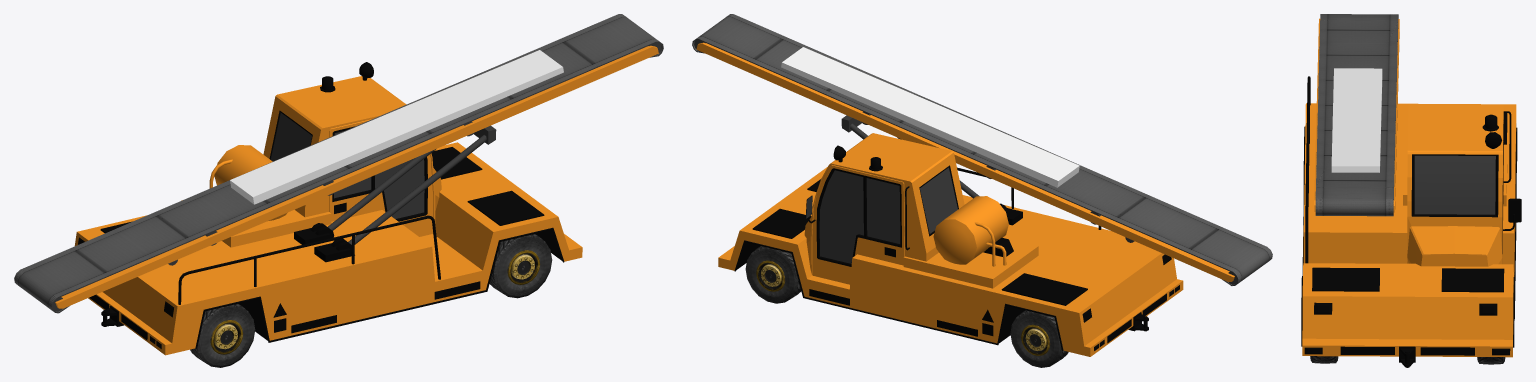
The model's file is LuggageLoaderAnimation (1).fbx.
3 views of the same model, side by side, from view 1: azimuth 30°, elevation 25°; view 2: azimuth 150°, elevation 25°; view 3: azimuth 270°, elevation 25° (orthographic). The views are drawn at different scales.
Parts seen in each view (by area): view 1: body, polySurface26, LuggageBelt, Cylinder002, Cylinder005, polySurface15; view 2: body, polySurface26, LuggageBelt, Cylinder009, Cylinder008; view 3: body, polySurface26, LuggageBelt, Cylinder002, Cylinder009.
Part boxes in pixels (x1,y1,x2,y2): body: (74,62,582,355); polySurface26: (14,14,663,313); LuggageBelt: (230,50,563,204); Cylinder002: (489,234,552,298); Cylinder005: (190,303,255,367); polySurface15: (328,125,496,244); body: (718,133,1183,356); polySurface26: (692,14,1272,285); LuggageBelt: (781,47,1079,187); Cylinder009: (745,246,801,303); Cylinder008: (1010,310,1068,367); body: (1301,76,1521,367); polySurface26: (1314,14,1399,216); LuggageBelt: (1331,68,1382,172); Cylinder002: (1310,356,1338,363); Cylinder009: (1477,357,1505,364).
Size of what is drawn, in the model's own units: 541 by 188 by 164.
